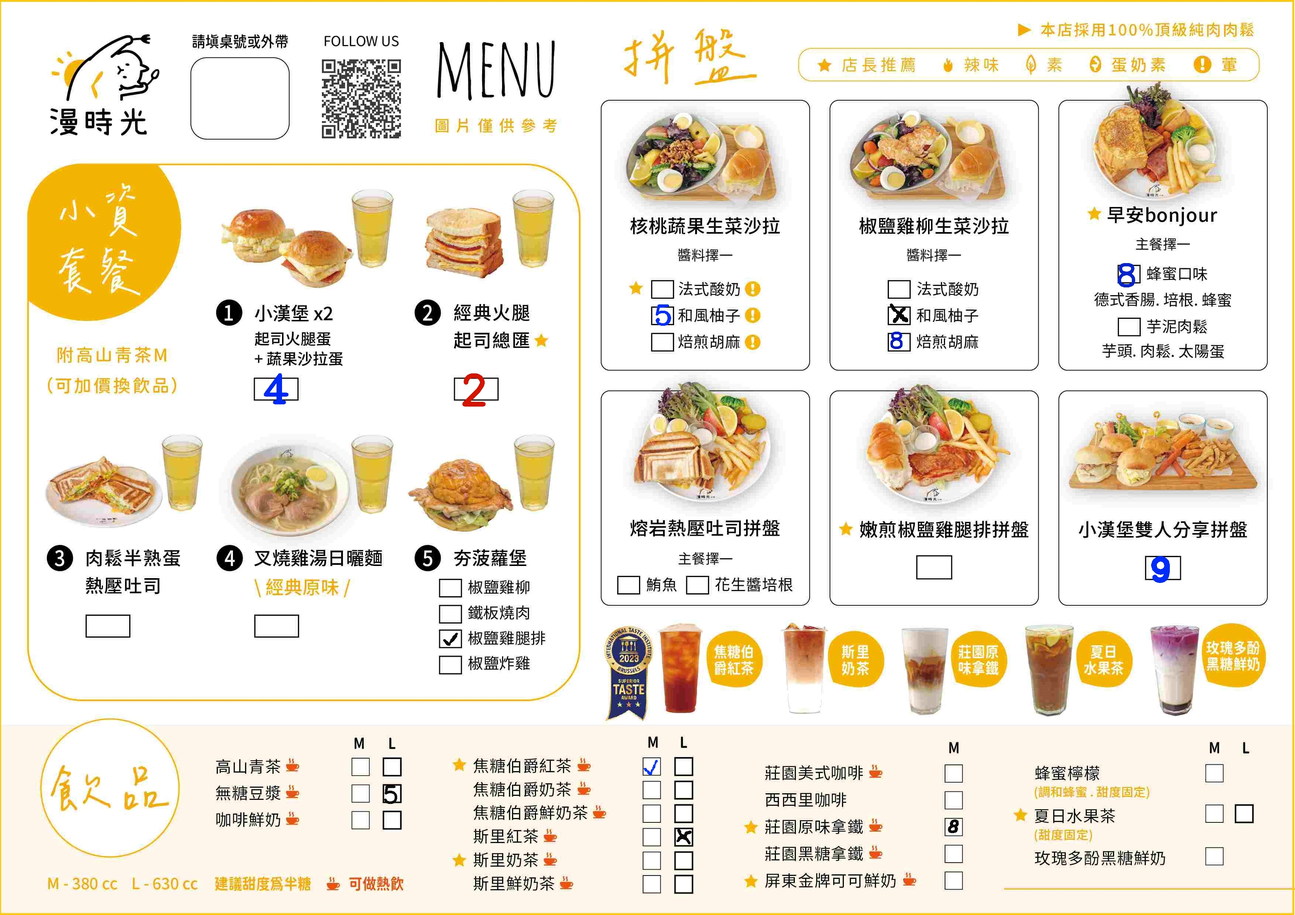marked_number_2: (454, 379, 498, 398)
marked_number_4: (255, 379, 298, 398)
marked_number_5: (652, 306, 674, 324), (384, 784, 401, 801)
marked_number_8: (888, 332, 910, 350), (1117, 264, 1139, 282), (945, 818, 962, 835)
marked_number_9: (1145, 557, 1180, 578)
marked_tick: (439, 630, 461, 648), (643, 759, 660, 776)
marked_x: (889, 306, 911, 324), (675, 828, 692, 845)
